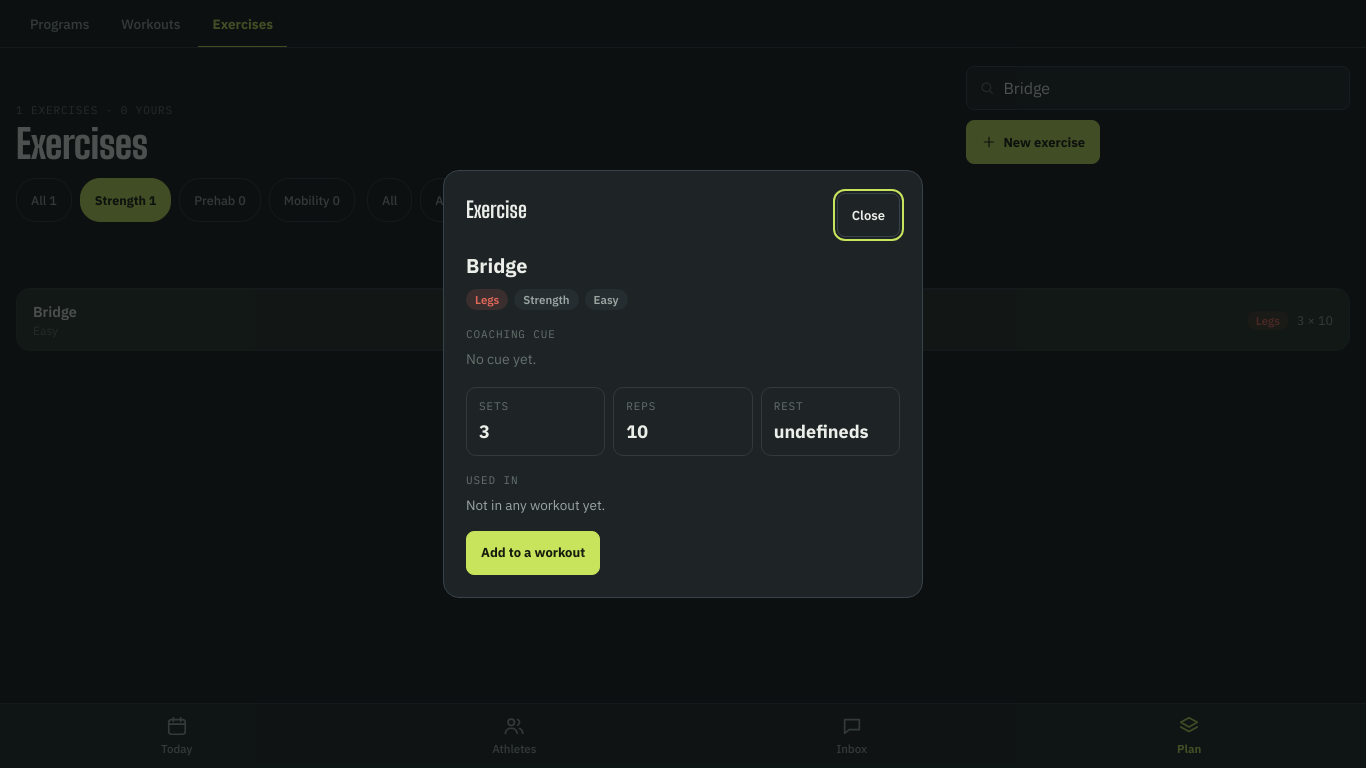
Test: offers both a new workout and an existing workout with the selected exercise id
Later steps or results of the test are not shown.
Click the button "Add to a workout" at (533, 553), box [466, 531, 600, 575]
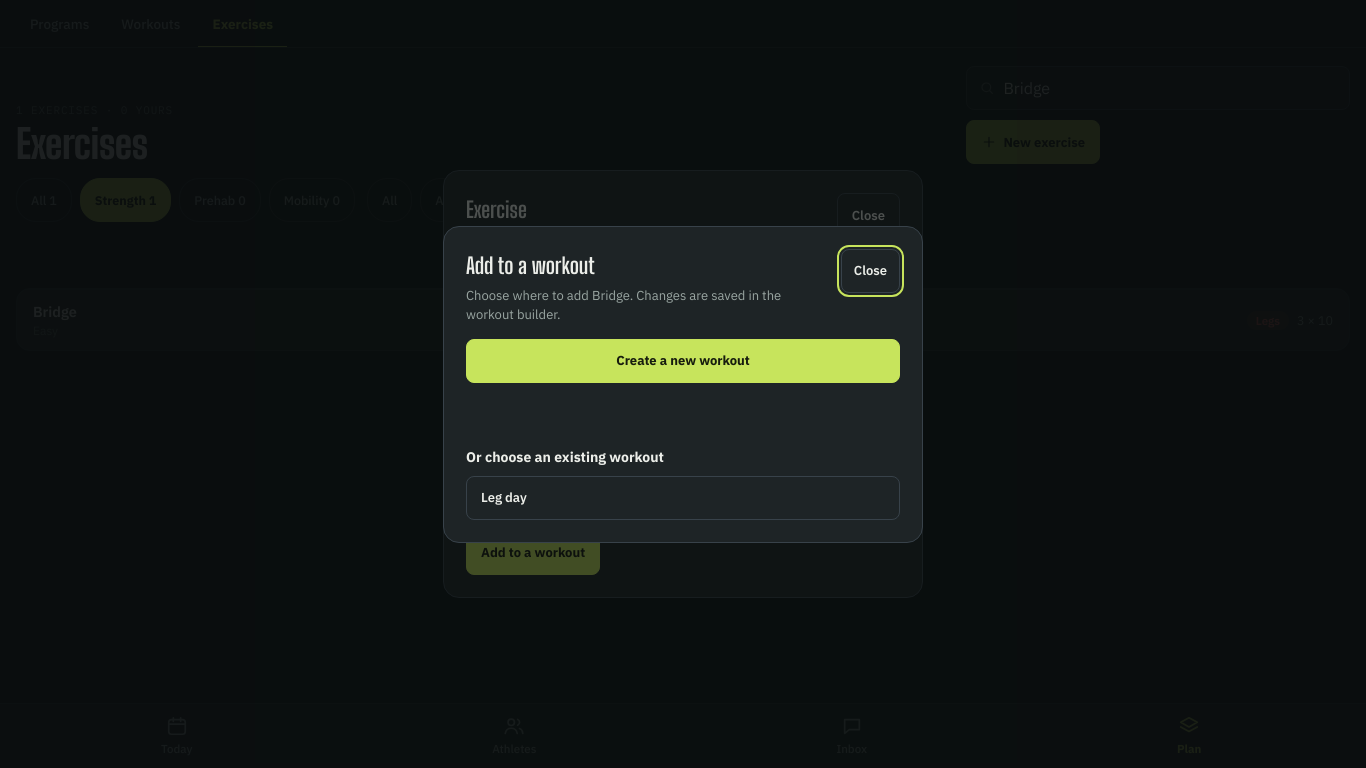
Expected: the button "Create a new workout" is shown, [466, 338, 900, 382]
Expected: the button "Leg day" is shown, [466, 476, 900, 520]
